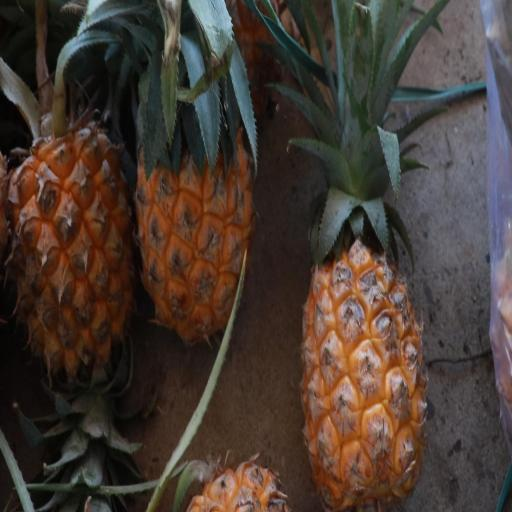Pineapple - v8 v1: (293, 158, 430, 512), (132, 26, 258, 351), (7, 80, 136, 390)
